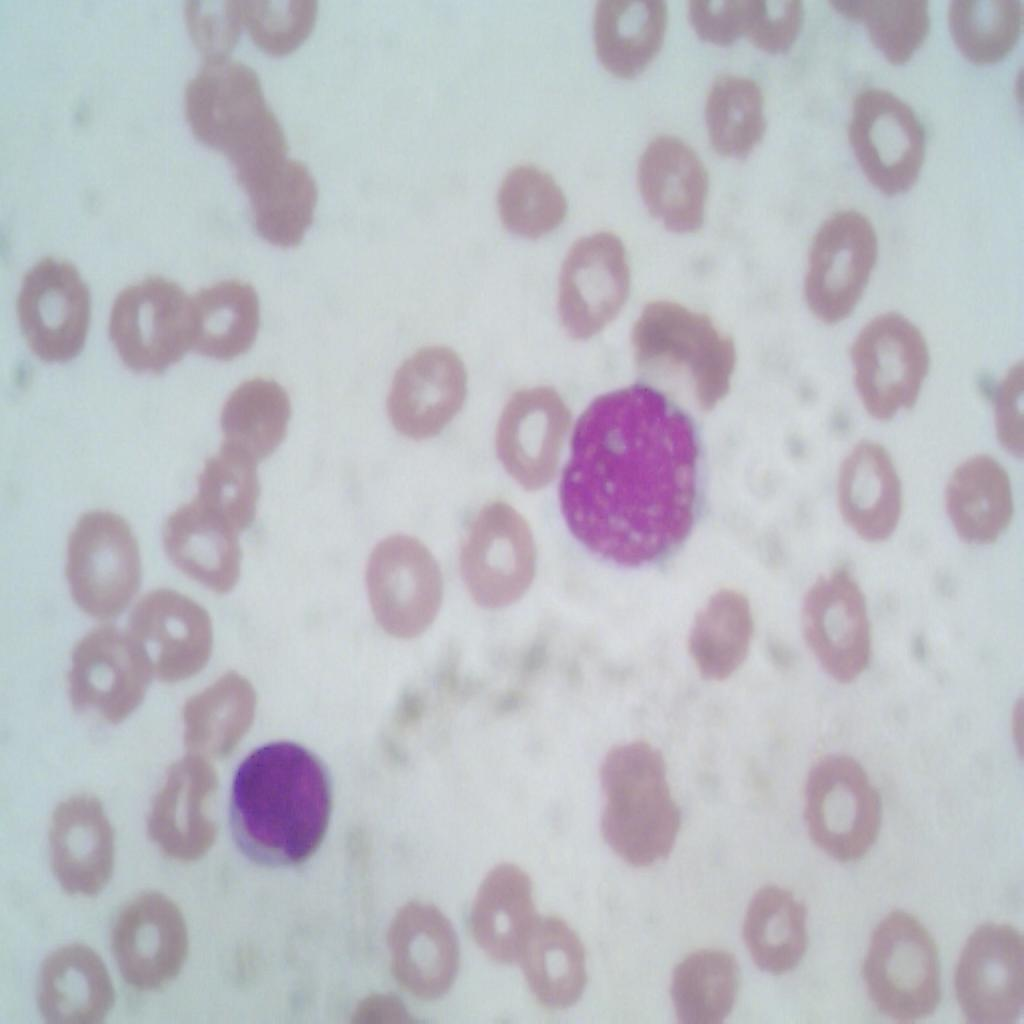Eritrosit: (102, 881, 198, 1010), (638, 292, 742, 406), (788, 743, 886, 861), (56, 495, 143, 624), (684, 562, 766, 695), (374, 897, 471, 1007), (843, 308, 936, 420), (491, 367, 582, 481), (856, 904, 943, 1022), (791, 201, 876, 318), (182, 50, 272, 159), (481, 157, 575, 258), (142, 754, 222, 872), (846, 85, 934, 191), (722, 868, 818, 964), (63, 625, 151, 729), (546, 214, 622, 334), (204, 378, 301, 472), (798, 565, 872, 688), (351, 535, 439, 638), (460, 495, 538, 610), (164, 498, 254, 597), (14, 252, 94, 362), (130, 595, 221, 691), (114, 268, 198, 372), (951, 909, 1023, 1023), (626, 132, 704, 237), (46, 785, 120, 892), (513, 915, 595, 1011), (939, 452, 1023, 544), (35, 930, 118, 1023), (664, 931, 746, 1023), (250, 161, 324, 258), (464, 860, 538, 954), (392, 337, 466, 429), (696, 65, 770, 157), (183, 272, 262, 358), (593, 0, 684, 74), (601, 785, 681, 867), (179, 668, 254, 755), (196, 439, 266, 530), (836, 444, 902, 538), (946, 0, 1022, 74), (240, 0, 334, 58), (606, 741, 670, 817), (172, 0, 246, 61), (233, 108, 289, 188)
Limfoblast: (551, 385, 715, 578), (224, 732, 338, 881)
